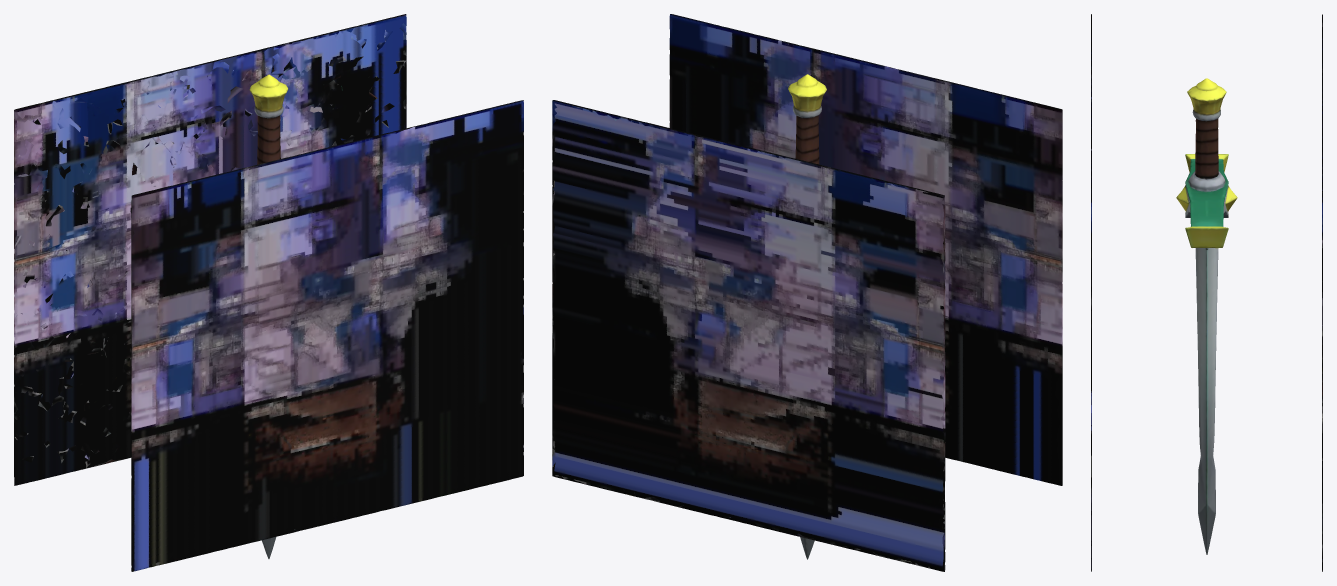
Rendered from Arthur_ExcaliburProxy_Green_S1337_Trellis2.glb.
3 renders of one model, left to right at view 1: azimuth 30°, elevation 25°; view 2: azimuth 150°, elevation 25°; view 3: azimuth 270°, elevation 25°, orthographic.
Visible parts, largest first — view 1: world; view 2: world; view 3: world.
Part boxes in pixels (x1,y1,x2,y2): world: (14,14,523,571); world: (552,14,1062,571); world: (1091,14,1322,571).
Bounding box in the file's own units: 0.8449 × 0.9976 × 0.4396.
Materials: 1 (1 with a texture image).
